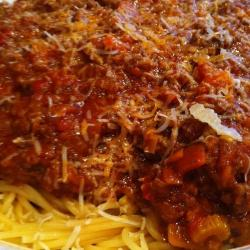bolonese_pasta: (4, 9, 238, 249)
